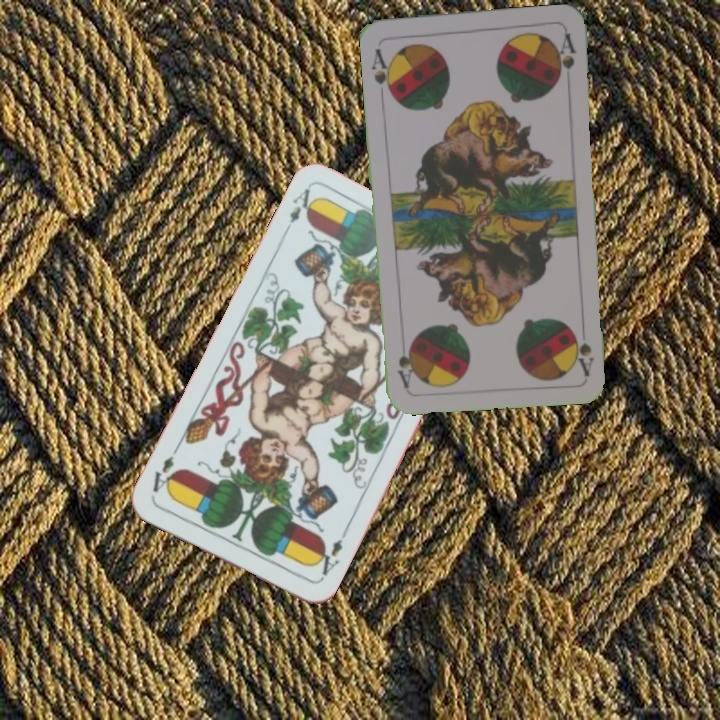EA: (310, 528, 350, 583), (281, 184, 320, 238)
SA: (368, 44, 397, 99), (572, 318, 597, 377)
